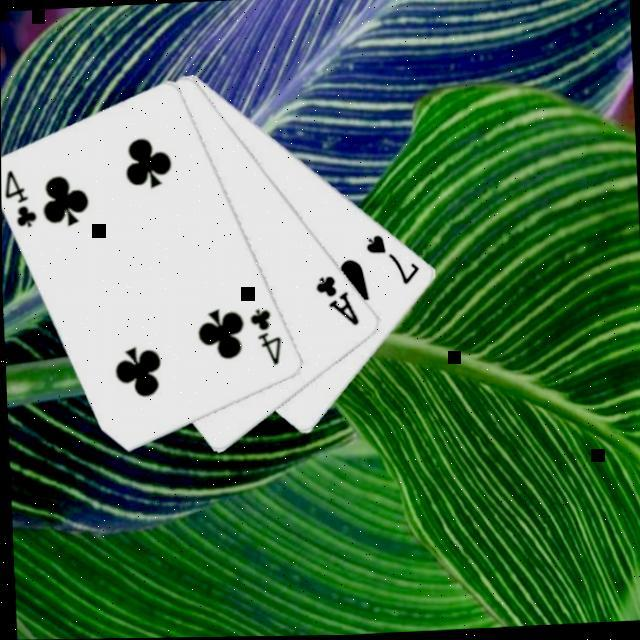4C: (1, 165, 41, 231), (246, 303, 285, 368)
7S: (362, 229, 424, 290)
AC: (312, 270, 363, 331)
